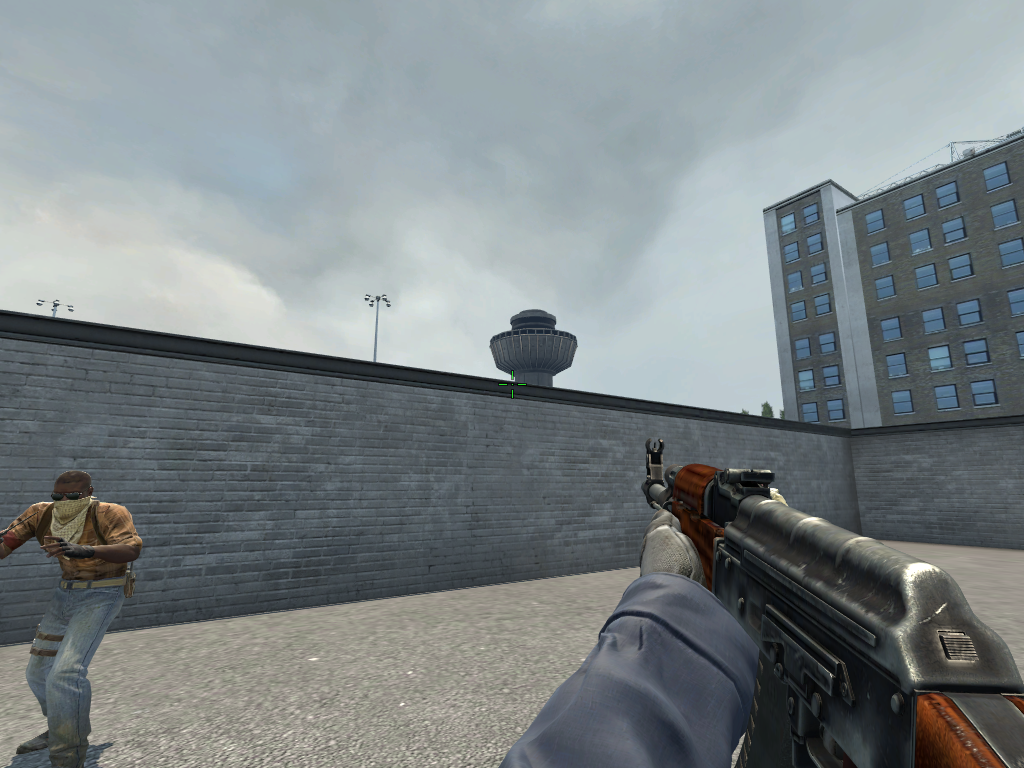tr head: (53, 475, 88, 521)
